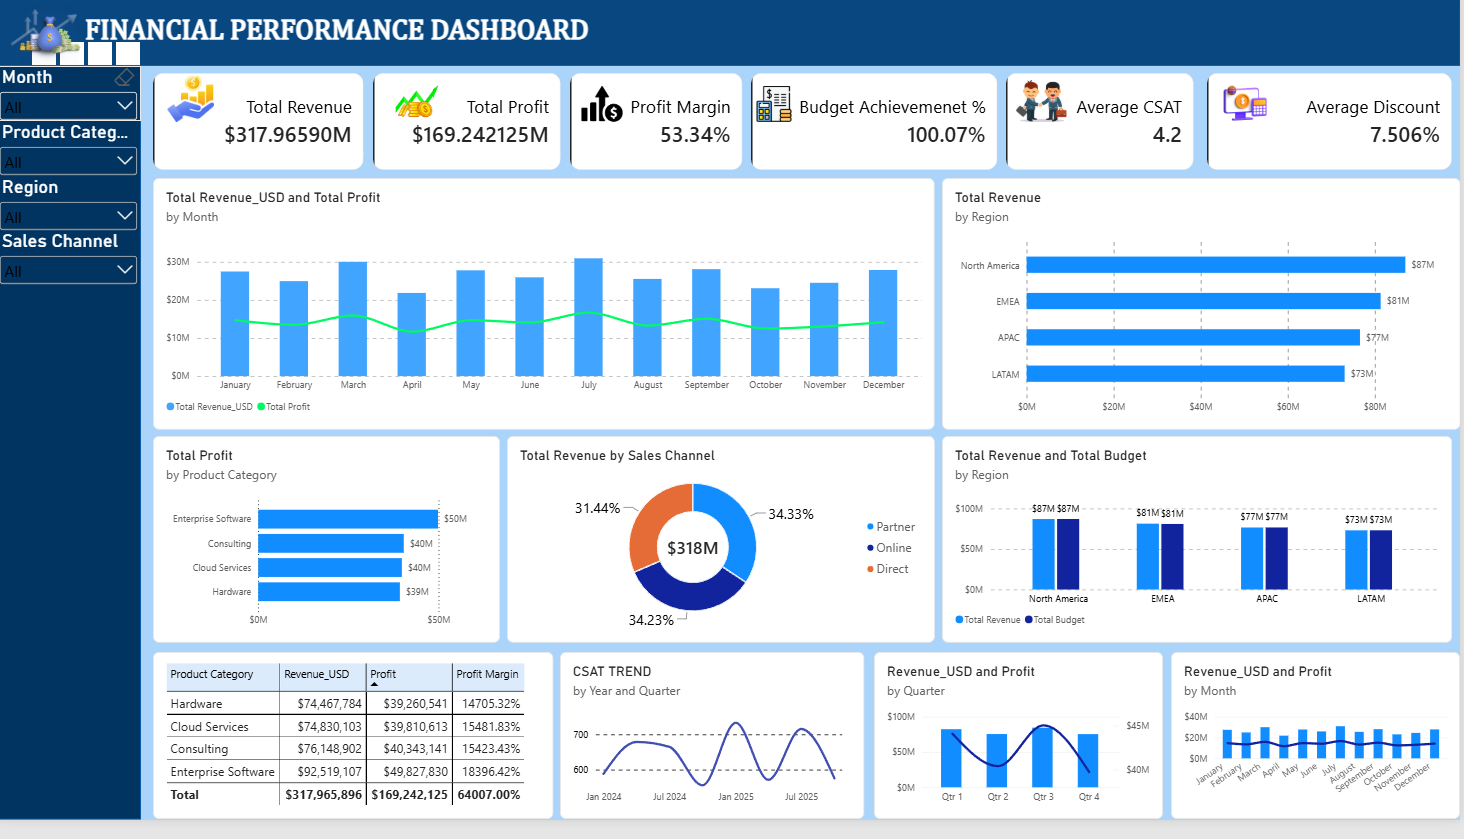

The dashboard page shown, as its layout file describes it:
{"tool":"powerbi","page":{"name":"Page 1","canvas":[1920,1080],"ordinal":0},"visuals":[{"type":"cardVisual","fields":{"Data":["global_finance_sales_dataset_1200_rows.Total Revenue"]},"box":[206.2,101.1,276.7,127.7],"z":0},{"type":"cardVisual","fields":{"Data":["global_finance_sales_dataset_1200_rows.Total Profit"]},"box":[494.8,101.1,246.1,127.7],"z":1000},{"type":"cardVisual","fields":{"Data":["Avg(global_finance_sales_dataset_1200_rows.Profit Margin)"]},"box":[752.8,101.1,226.1,127.7],"z":2000},{"type":"cardVisual","fields":{"Data":["global_finance_sales_dataset_1200_rows.Average Discount"]},"box":[1588.1,101.1,321.9,127.7],"z":3000},{"type":"cardVisual","fields":{"Data":["global_finance_sales_dataset_1200_rows.Budget Achievemenet %"]},"box":[989.6,101.1,323.2,127.7],"z":4000},{"type":"cardVisual","fields":{"Data":["global_finance_sales_dataset_1200_rows.Average CSAT"]},"box":[1324.7,101.1,246.1,127.7],"z":5000},{"type":"shape","box":[0,91.8,190.2,988.2],"z":6000},{"type":"lineClusteredColumnComboChart","fields":{"Category":["global_finance_sales_dataset_1200_rows.Date.Variation.Date Hierarchy.Month"],"Y":["Sum(global_finance_sales_dataset_1200_rows.Revenue_USD)"],"Y2":["global_finance_sales_dataset_1200_rows.Total Profit"]},"box":[206.2,238.1,1025.5,329.9],"z":7000},{"type":"clusteredBarChart","fields":{"Category":["global_finance_sales_dataset_1200_rows.Region"],"Y":["global_finance_sales_dataset_1200_rows.Total Revenue"]},"box":[1240.9,238.1,679.7,329.9],"z":8000},{"type":"barChart","fields":{"Category":["global_finance_sales_dataset_1200_rows.Product Category"],"Y":["global_finance_sales_dataset_1200_rows.Total Profit"]},"box":[206.2,577.2,454.9,271.3],"z":9000},{"type":"donutChart","fields":{"Category":["global_finance_sales_dataset_1200_rows.Sales Channel"],"Y":["global_finance_sales_dataset_1200_rows.Total Revenue"]},"box":[670.3,577.2,561.3,271.3],"z":10000},{"type":"clusteredColumnChart","fields":{"Category":["global_finance_sales_dataset_1200_rows.Region"],"Y":["global_finance_sales_dataset_1200_rows.Total Revenue","global_finance_sales_dataset_1200_rows.Total Budget"]},"box":[1240.9,577.2,669,271.3],"z":11000},{"type":"tableEx","fields":{"Values":["global_finance_sales_dataset_1200_rows.Product Category","Sum(global_finance_sales_dataset_1200_rows.Revenue_USD)","Sum(global_finance_sales_dataset_1200_rows.Profit)","Sum(global_finance_sales_dataset_1200_rows.Profit Margin)"]},"box":[206.2,860.5,525.4,219.5],"z":12000},{"type":"lineChart","fields":{"Category":["global_finance_sales_dataset_1200_rows.Date.Variation.Date Hierarchy.Year","global_finance_sales_dataset_1200_rows.Date.Variation.Date Hierarchy.Quarter"],"Y":["Sum(global_finance_sales_dataset_1200_rows.CSAT)"]},"box":[739.5,860.5,399,219.5],"z":13000},{"type":"textbox","box":[1368,861,542,219],"z":14000},{"type":"shape","box":[0,0,1920.6,91.8],"z":16000},{"type":"textbox","box":[117,25.3,806,66.5],"z":17000},{"type":"slicer","fields":{"Values":["global_finance_sales_dataset_1200_rows.Region"]},"box":[0,235.4,190.2,71.8],"z":18000},{"type":"slicer","fields":{"Values":["global_finance_sales_dataset_1200_rows.Product Category"]},"box":[0,163.6,190.2,71.8],"z":19000},{"type":"slicer","fields":{"Values":["global_finance_sales_dataset_1200_rows.Date.Variation.Date Hierarchy.Month"]},"box":[0,91.8,190.2,71.8],"z":20000},{"type":"slicer","fields":{"Values":["global_finance_sales_dataset_1200_rows.Sales Channel"]},"box":[0,307.2,190.2,71.8],"z":21000},{"type":"image","box":[0,0,130.3,101.1],"z":22000},{"type":"image","box":[206.2,102.4,98.4,62.5],"z":23000},{"type":"image","box":[494.8,102.4,109.1,74.5],"z":24000},{"type":"image","box":[752.8,118.4,83.8,46.6],"z":25000},{"type":"image","box":[978.9,118.4,83.8,46.6],"z":26000},{"type":"image","box":[1326.1,110.4,90.4,54.5],"z":27000},{"type":"image","box":[1589.4,110.4,98.4,62.5],"z":28000},{"type":"lineClusteredColumnComboChart","fields":{"Category":["global_finance_sales_dataset_1200_rows.Date.Variation.Date Hierarchy.Month"],"Y":["Sum(global_finance_sales_dataset_1200_rows.Revenue_USD)"],"Y2":["Sum(global_finance_sales_dataset_1200_rows.Profit)"]},"box":[1541.5,860.5,379.1,219.5],"z":28001},{"type":"lineClusteredColumnComboChart","fields":{"Category":["global_finance_sales_dataset_1200_rows.Date.Variation.Date Hierarchy.Quarter"],"Y":["Sum(global_finance_sales_dataset_1200_rows.Revenue_USD)"],"Y2":["Sum(global_finance_sales_dataset_1200_rows.Profit)"]},"box":[1151.8,860.5,379.1,219.5],"z":28002}]}

Visuals, with their boxes in screenshot pixels (x1, y1, x2, y2), scaled from the page's 1920x1080 canvas onto the 1464x839 screenshot:
cardVisual - global_finance_sales_dataset_1200_rows.Total Revenue: bbox(157, 79, 368, 178)
cardVisual - global_finance_sales_dataset_1200_rows.Total Profit: bbox(377, 79, 565, 178)
cardVisual - Avg(global_finance_sales_dataset_1200_rows.Profit Margin): bbox(574, 79, 746, 178)
cardVisual - global_finance_sales_dataset_1200_rows.Average Discount: bbox(1211, 79, 1456, 178)
cardVisual - global_finance_sales_dataset_1200_rows.Budget Achievemenet %: bbox(755, 79, 1001, 178)
cardVisual - global_finance_sales_dataset_1200_rows.Average CSAT: bbox(1010, 79, 1198, 178)
shape: bbox(0, 71, 145, 838)
lineClusteredColumnComboChart - global_finance_sales_dataset_1200_rows.Date.Variation.Date Hierarchy.Month x Sum(global_finance_sales_dataset_1200_rows.Revenue_USD): bbox(157, 185, 939, 441)
clusteredBarChart - global_finance_sales_dataset_1200_rows.Region x global_finance_sales_dataset_1200_rows.Total Revenue: bbox(946, 185, 1463, 441)
barChart - global_finance_sales_dataset_1200_rows.Product Category x global_finance_sales_dataset_1200_rows.Total Profit: bbox(157, 448, 504, 659)
donutChart - global_finance_sales_dataset_1200_rows.Sales Channel x global_finance_sales_dataset_1200_rows.Total Revenue: bbox(511, 448, 939, 659)
clusteredColumnChart - global_finance_sales_dataset_1200_rows.Region x global_finance_sales_dataset_1200_rows.Total Revenue: bbox(946, 448, 1456, 659)
tableEx - global_finance_sales_dataset_1200_rows.Product Category x Sum(global_finance_sales_dataset_1200_rows.Revenue_USD): bbox(157, 668, 558, 838)
lineChart - global_finance_sales_dataset_1200_rows.Date.Variation.Date Hierarchy.Year x global_finance_sales_dataset_1200_rows.Date.Variation.Date Hierarchy.Quarter: bbox(564, 668, 868, 838)
textbox: bbox(1043, 669, 1456, 838)
shape: bbox(0, 0, 1463, 71)
textbox: bbox(89, 20, 704, 71)
slicer - global_finance_sales_dataset_1200_rows.Region: bbox(0, 183, 145, 239)
slicer - global_finance_sales_dataset_1200_rows.Product Category: bbox(0, 127, 145, 183)
slicer - global_finance_sales_dataset_1200_rows.Date.Variation.Date Hierarchy.Month: bbox(0, 71, 145, 127)
slicer - global_finance_sales_dataset_1200_rows.Sales Channel: bbox(0, 239, 145, 294)
image: bbox(0, 0, 99, 79)
image: bbox(157, 80, 232, 128)
image: bbox(377, 80, 460, 137)
image: bbox(574, 92, 638, 128)
image: bbox(746, 92, 810, 128)
image: bbox(1011, 86, 1080, 128)
image: bbox(1212, 86, 1287, 134)
lineClusteredColumnComboChart - global_finance_sales_dataset_1200_rows.Date.Variation.Date Hierarchy.Month x Sum(global_finance_sales_dataset_1200_rows.Revenue_USD): bbox(1175, 668, 1463, 838)
lineClusteredColumnComboChart - global_finance_sales_dataset_1200_rows.Date.Variation.Date Hierarchy.Quarter x Sum(global_finance_sales_dataset_1200_rows.Revenue_USD): bbox(878, 668, 1167, 838)
